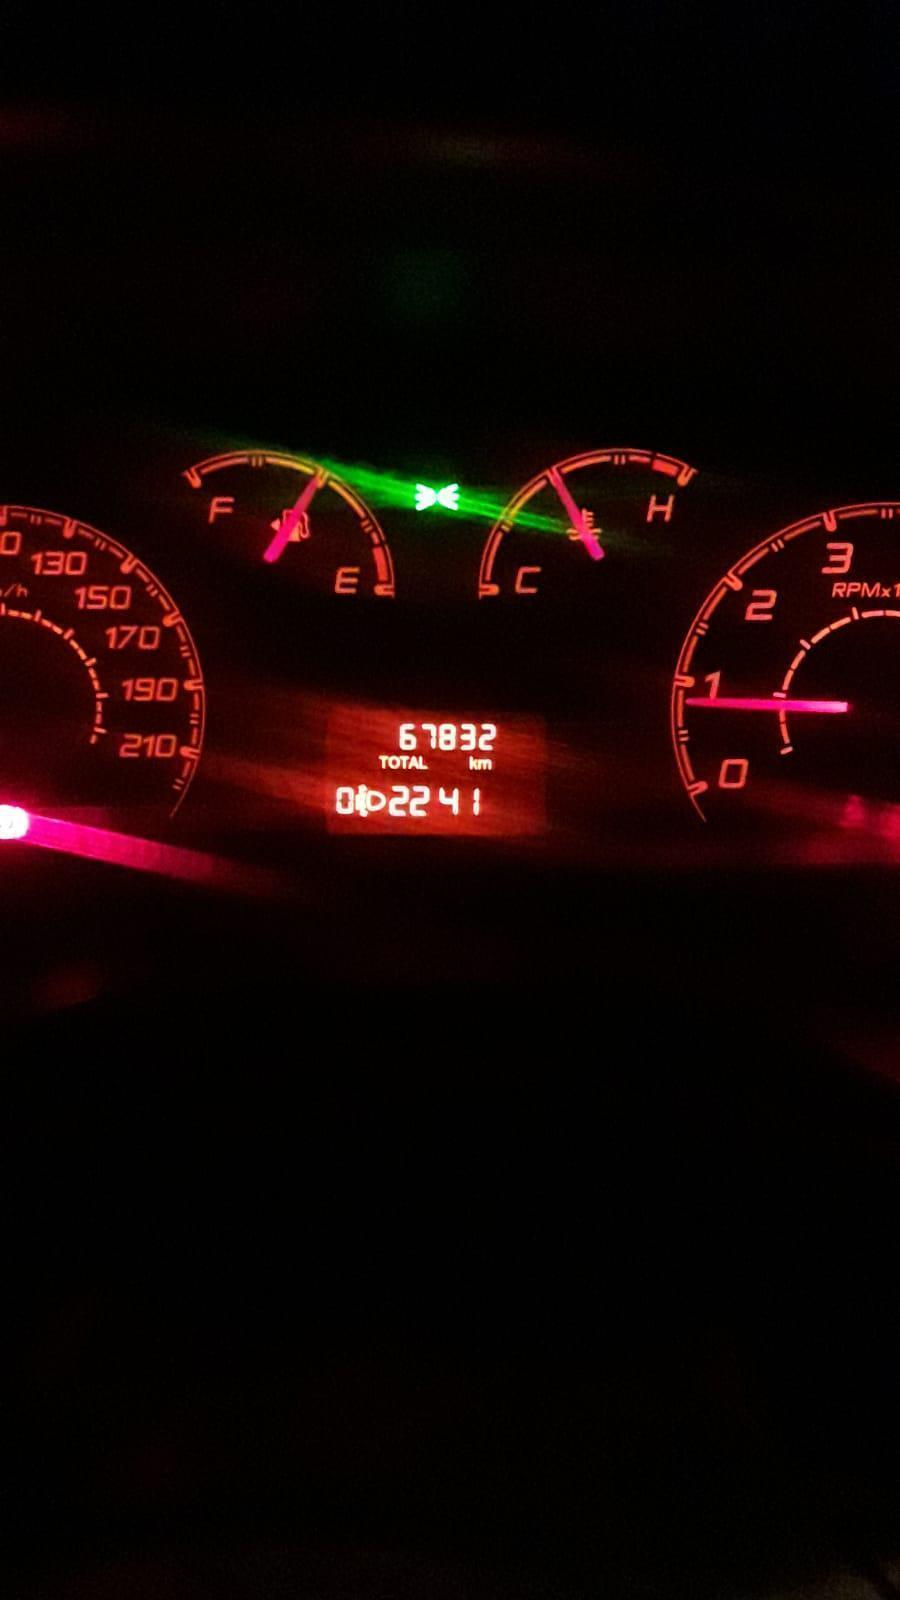0: (333, 784, 354, 816)
1: (465, 780, 485, 824)
2: (386, 781, 409, 821), (408, 782, 431, 821), (479, 720, 497, 752)
3: (458, 719, 476, 754)
4: (436, 785, 460, 816)
6: (398, 720, 418, 754)
7: (419, 721, 438, 749)
8: (438, 718, 456, 753)
X: (478, 757, 492, 773), (418, 754, 430, 771), (378, 753, 388, 771), (388, 754, 399, 770), (409, 755, 419, 771), (400, 754, 409, 771), (469, 754, 477, 773)
odometer: (316, 698, 555, 841)
